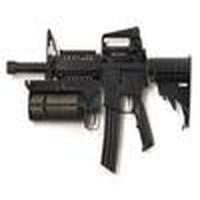gun: (5, 28, 198, 175)
